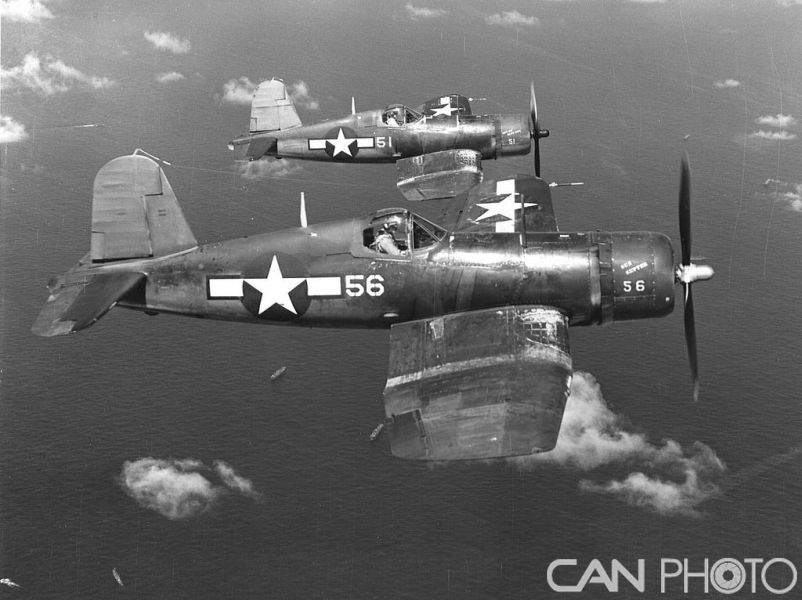airplane: (26, 146, 720, 458), (222, 70, 551, 199)
